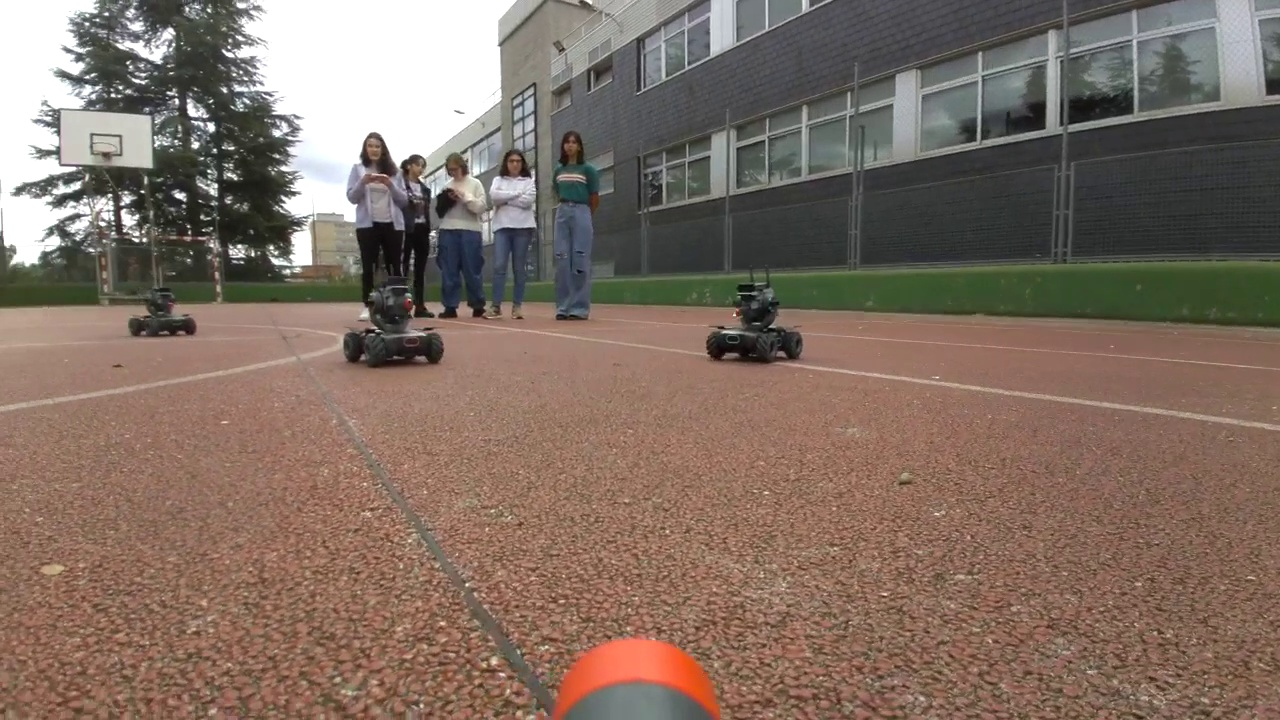robot: (345, 277, 443, 365), (707, 282, 804, 361), (129, 287, 196, 336)
